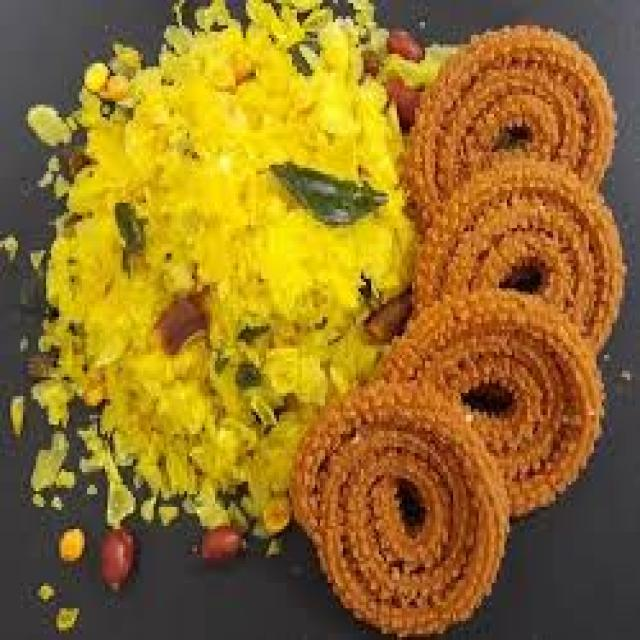POHA: (28, 0, 438, 532)
